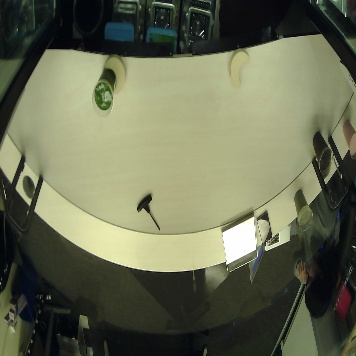full_cup: (93, 68, 117, 117), (293, 189, 313, 232), (312, 129, 332, 172), (341, 119, 356, 157)
puck: (103, 55, 125, 93), (230, 50, 249, 89)
